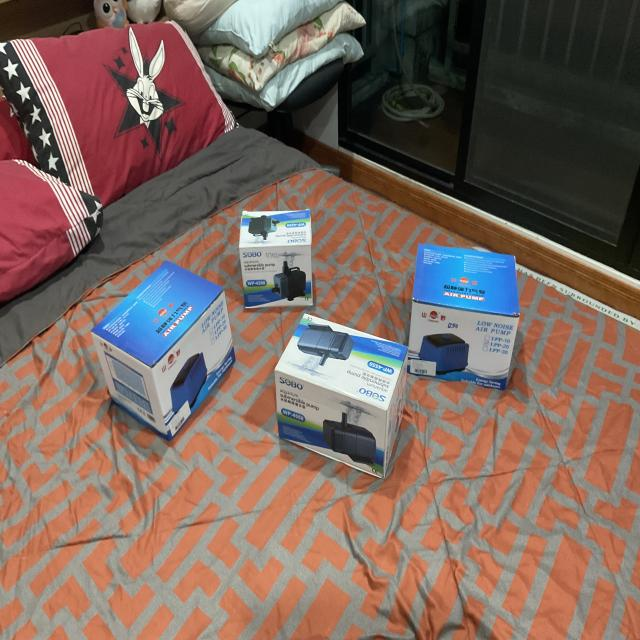SOBO_WP_4200: (270, 290, 422, 481), (240, 190, 336, 320)
YAMANO_LPP_20: (86, 246, 232, 444), (402, 235, 556, 399)
